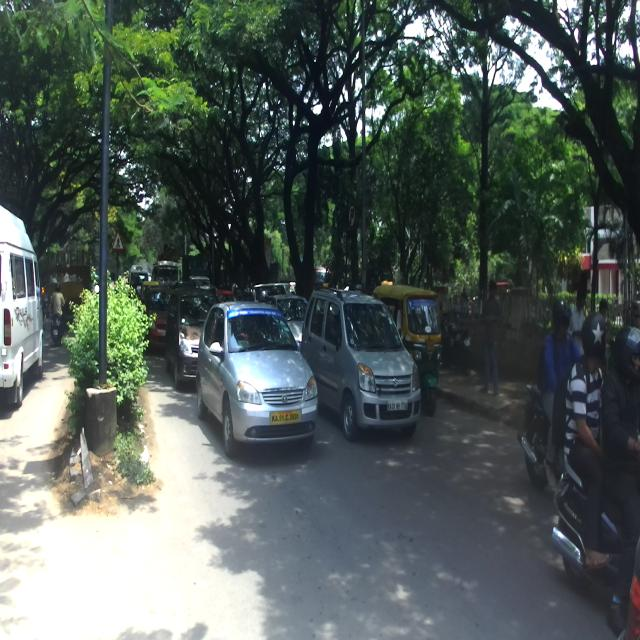car ahead at: (196, 297, 316, 457), (307, 289, 419, 444)
